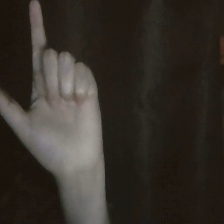L: (1, 1, 115, 178)
